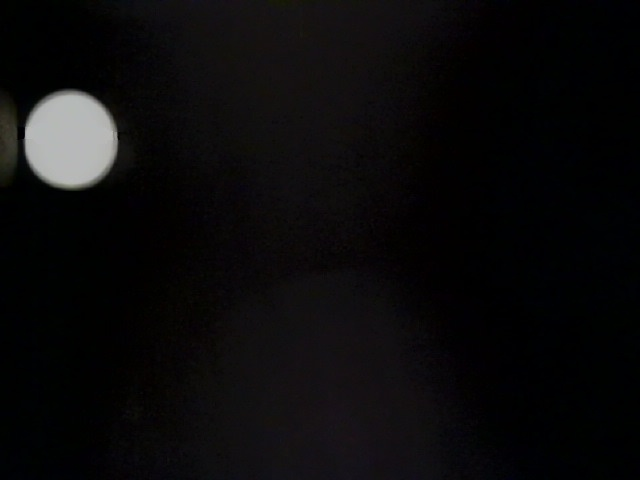QTLJ: (85, 24, 301, 174)
